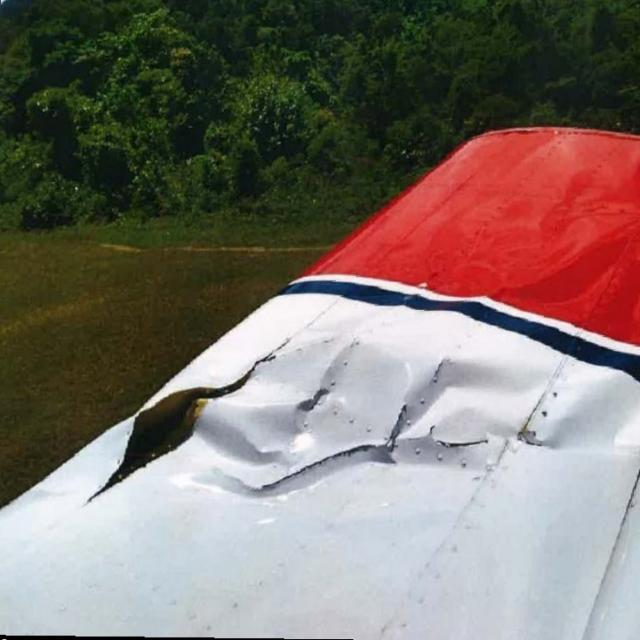crack: (260, 429, 395, 486), (432, 418, 514, 478), (384, 395, 411, 438), (429, 354, 461, 388)
